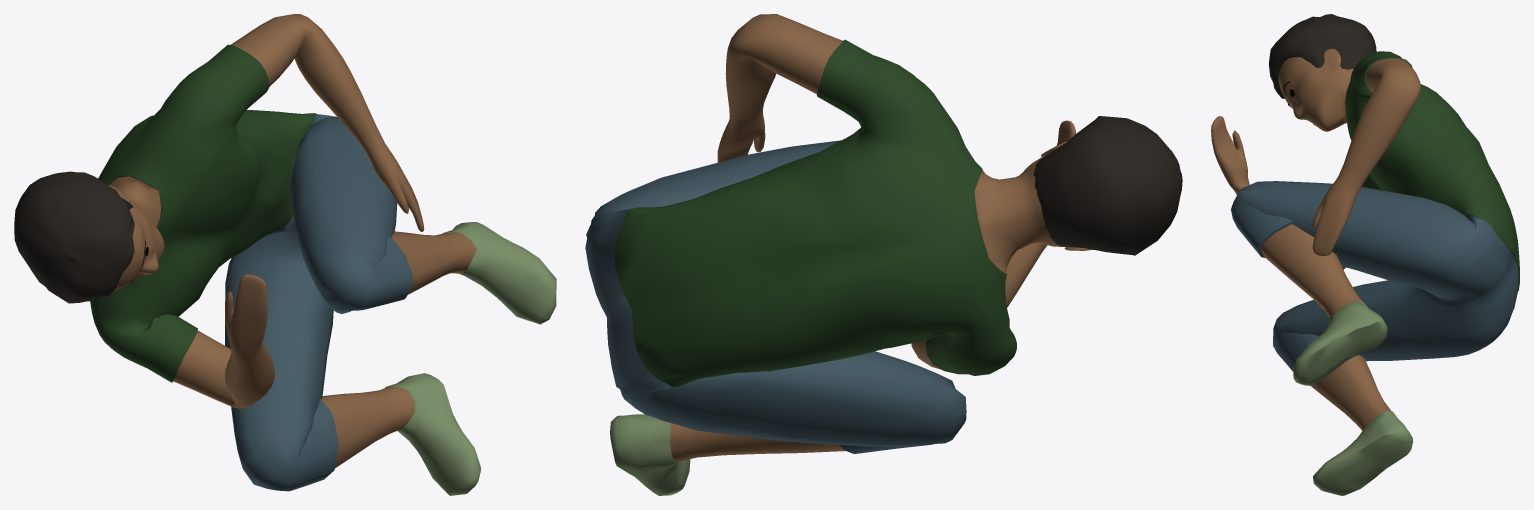
The model's file is Male_Rolling.glb.
3 views of the same model, side by side, from view 1: azimuth 30°, elevation 25°; view 2: azimuth 150°, elevation 25°; view 3: azimuth 270°, elevation 25° (orthographic). The views are drawn at different scales.
Visible parts, largest first — view 1: Male-Rolling; view 2: Male-Rolling; view 3: Male-Rolling.
Part boxes in pixels (left/top/right/bottom): Male-Rolling: left=14, top=14, right=556, bottom=495; Male-Rolling: left=585, top=14, right=1182, bottom=495; Male-Rolling: left=1211, top=14, right=1519, bottom=495.
Size of the model in its own units: 0.9182 by 0.8126 by 0.5988.
